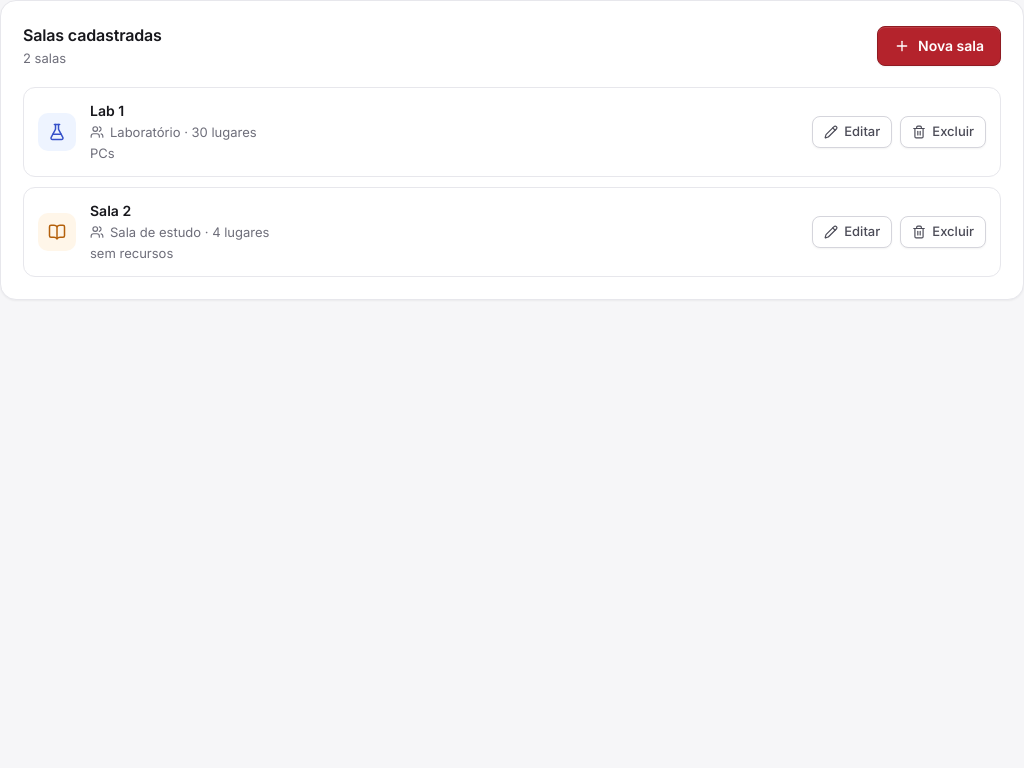
it: AdminSalas › Voltar e o X fecham o painel sem salvar
Click the button with aria-label "Editar Lab 1" at (852,132), box [812,116,892,148]
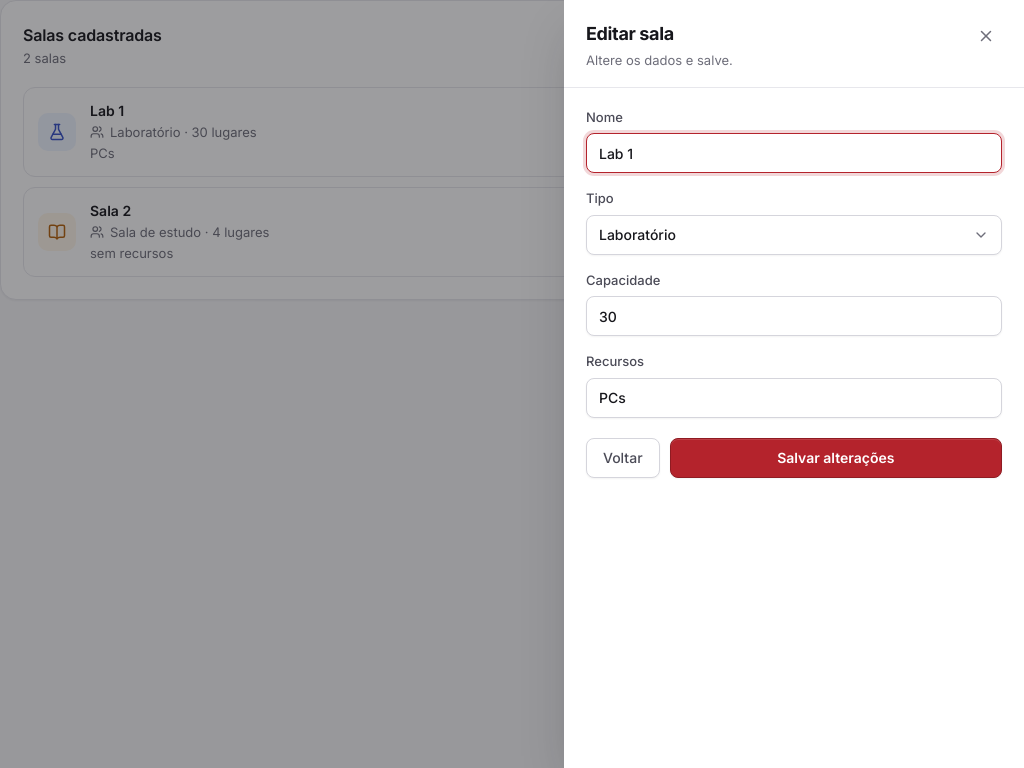
Click the button "Voltar" at (623,458), box [586,438,660,478]
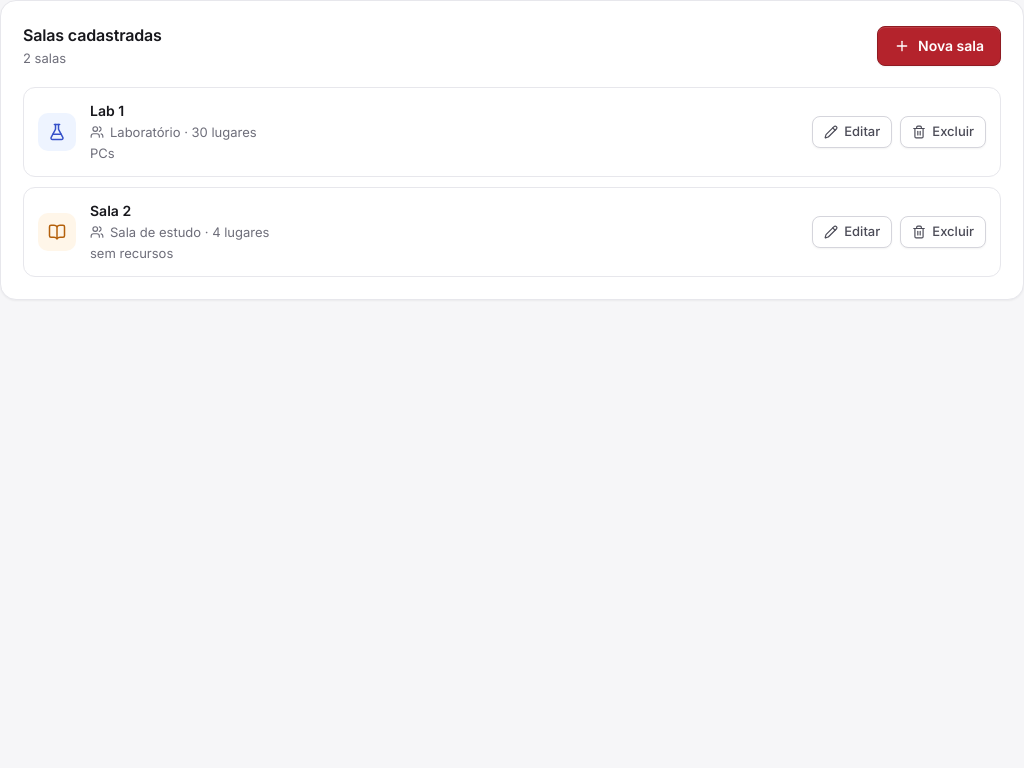
Expected: the dialog is gone
Click the button "Nova sala" at (939,46), box [877,26,1001,66]
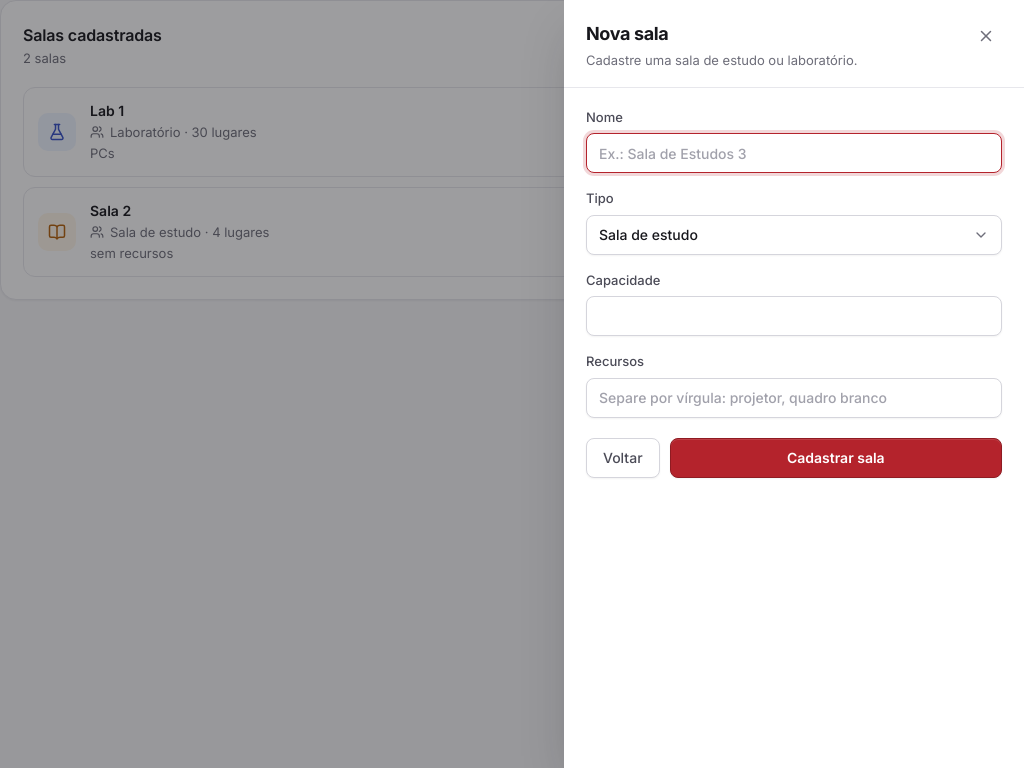
Click the button named "Fechar" at (986,36), box [970,20,1002,52]
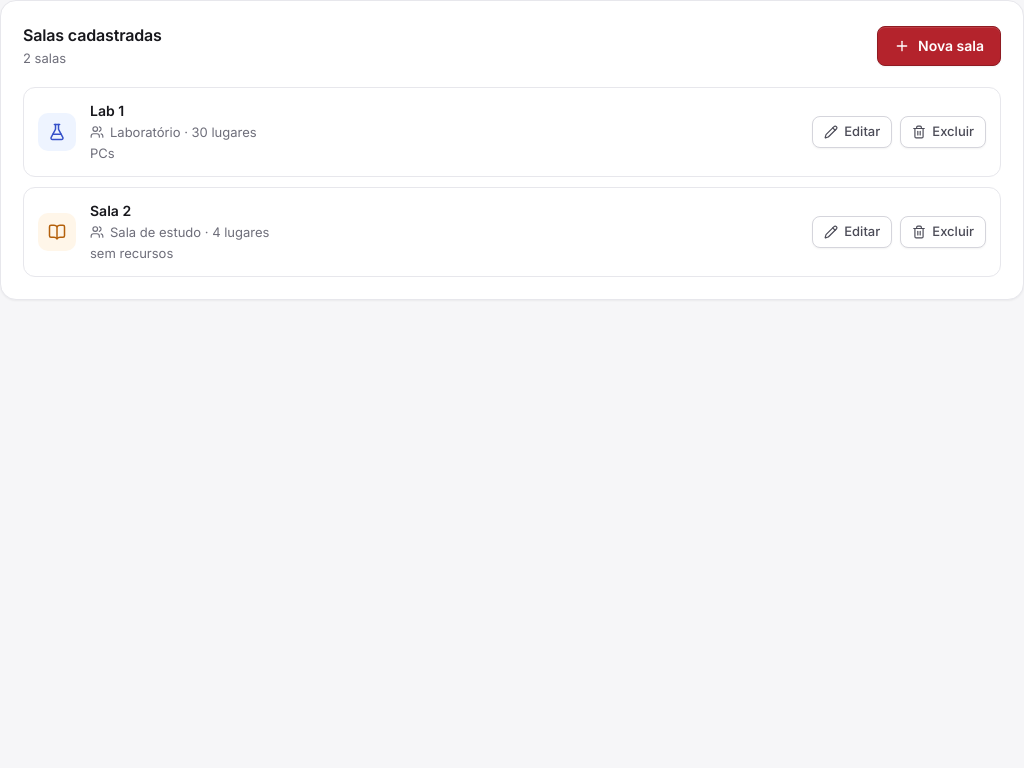
Expected: the dialog is gone
